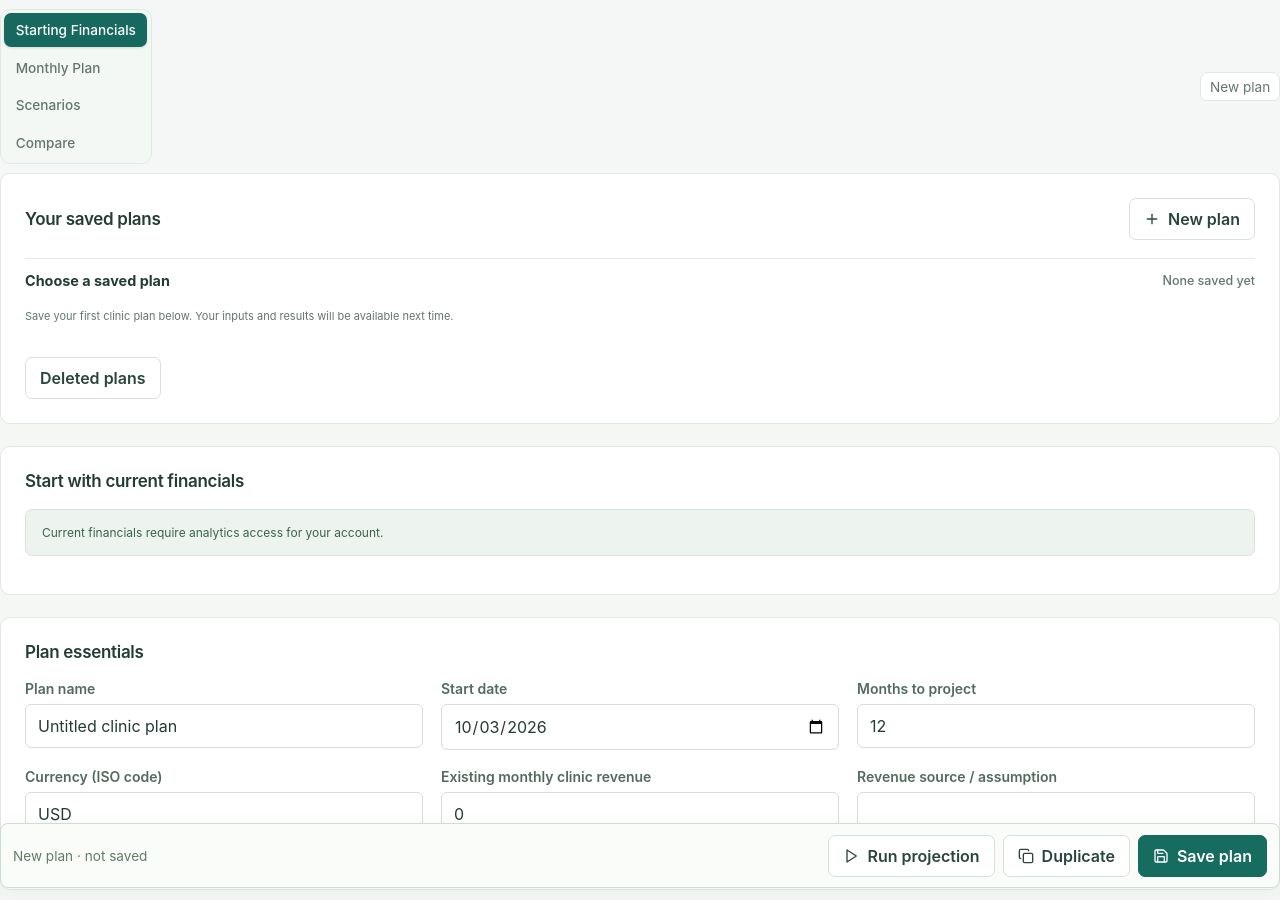
it: shows conflicts without discarding edited inputs
Type "Explicit synthetic assumption" into the field labelled "Revenue source / assumption" at (1056, 814), box [857,792,1255,836]
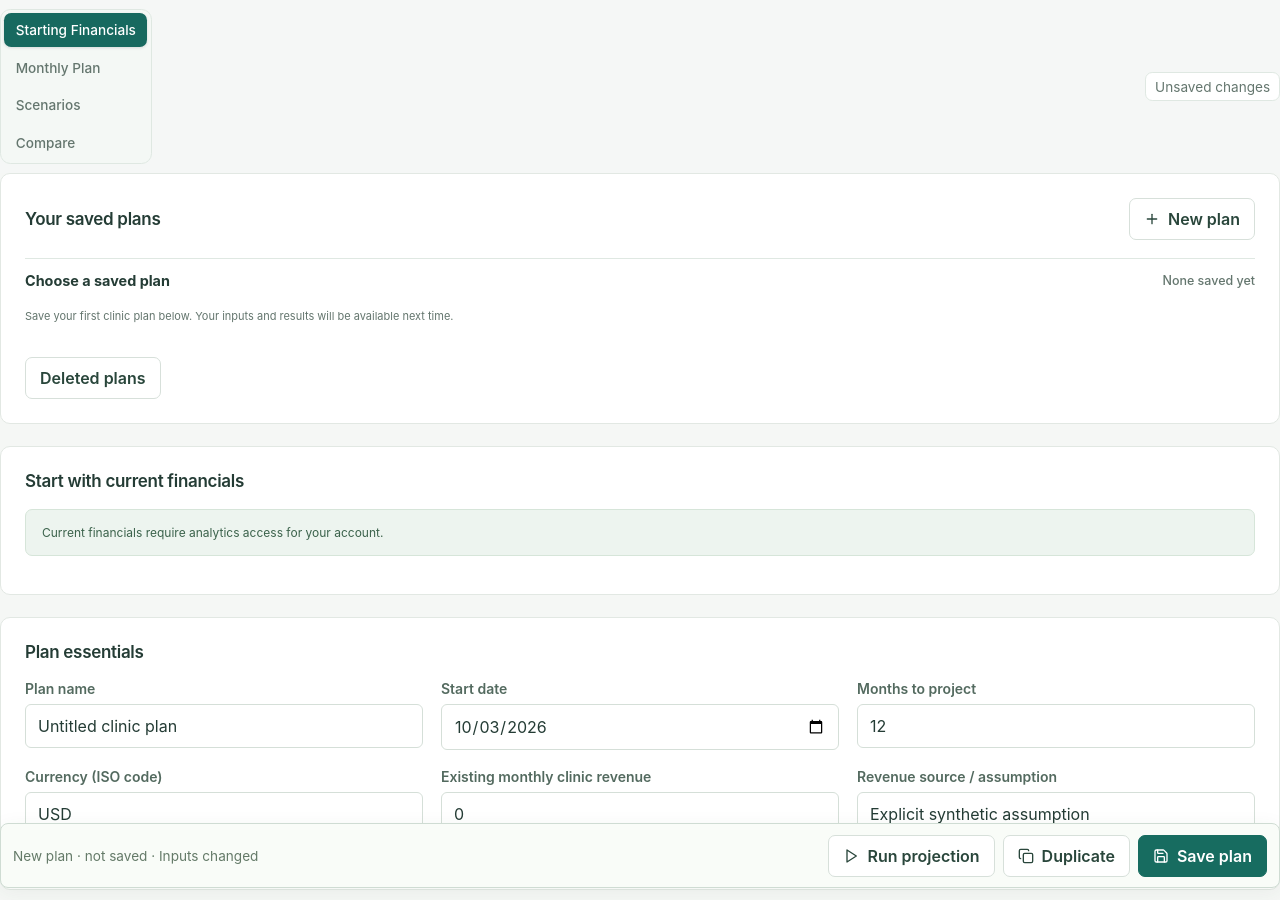
Click the button "Save plan" at (1202, 856), box [1138,835,1267,877]
(page scrolled)
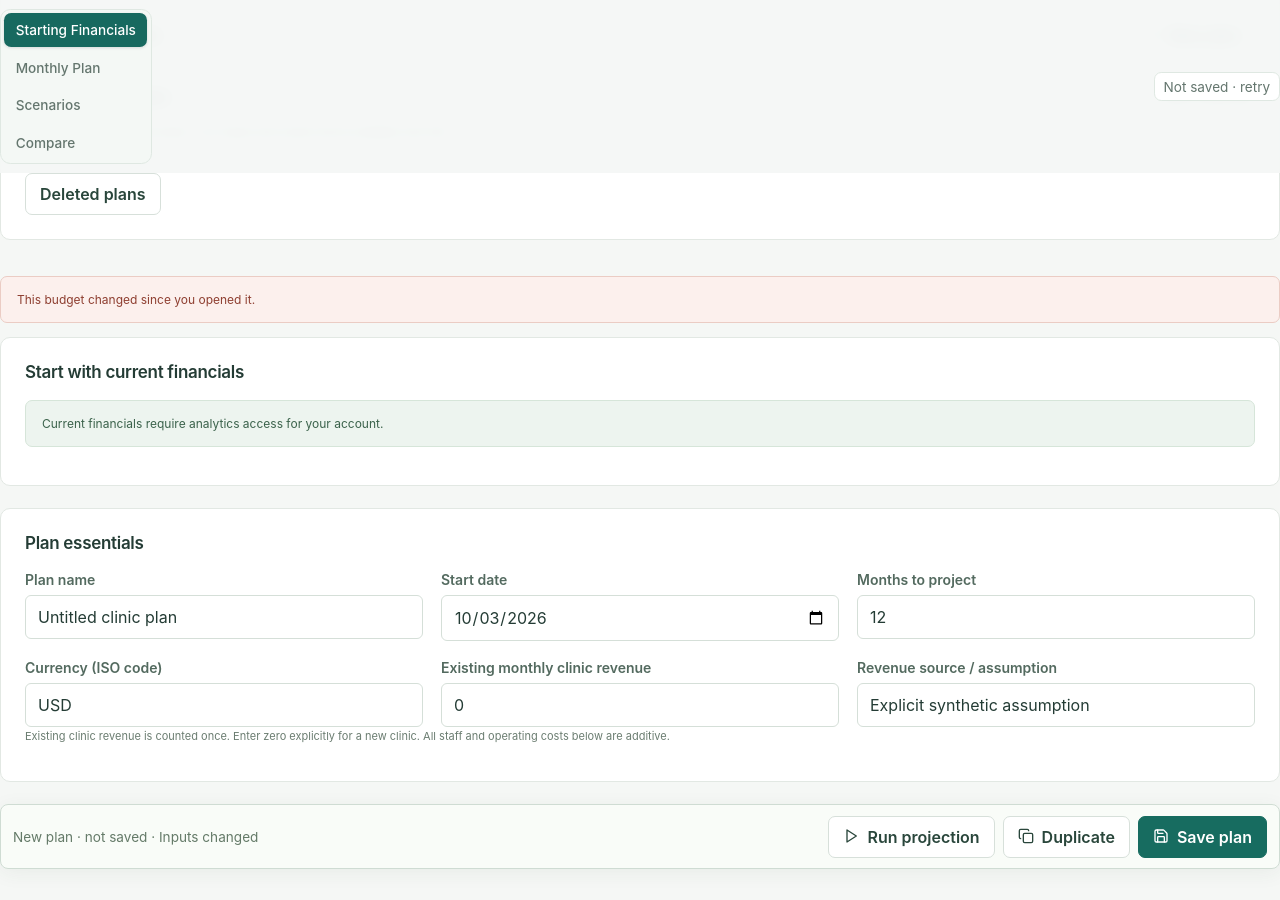
Check: the message "This budget changed since you opened it." is shown, box [0,276,1279,323]
